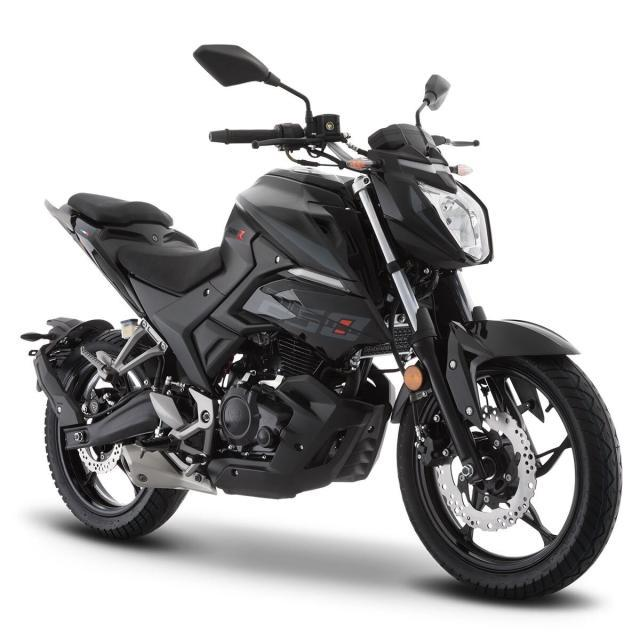MOTORCYCLE: (26, 110, 624, 602)
